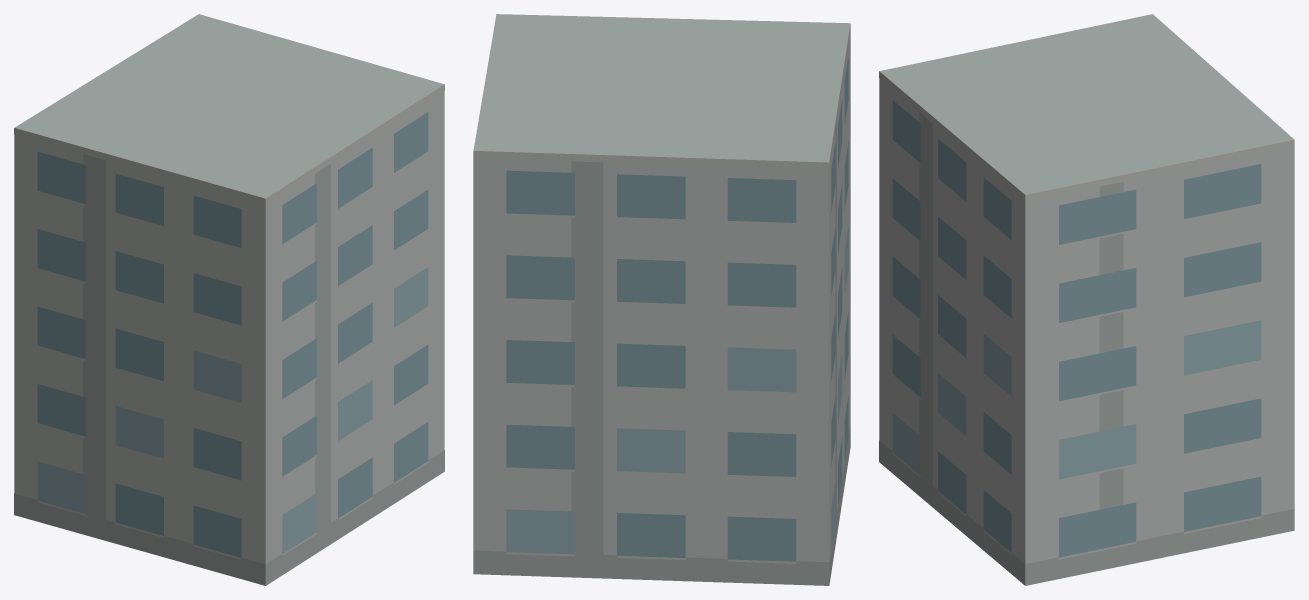
Rendered from survey-upis-32839975.glb.
3 views of the same model, side by side, from view 1: azimuth 30°, elevation 25°; view 2: azimuth 150°, elevation 25°; view 3: azimuth 270°, elevation 25° (orthographic). The views are drawn at different scales.
Parts seen in each view (by area): view 1: survey-upis-32839975.tmp; view 2: survey-upis-32839975.tmp; view 3: survey-upis-32839975.tmp.
Part boxes in pixels (bbox=[...]): survey-upis-32839975.tmp: bbox=[14, 14, 444, 585]; survey-upis-32839975.tmp: bbox=[473, 14, 850, 585]; survey-upis-32839975.tmp: bbox=[879, 14, 1294, 585].
Size of the model in its own units: 13.86 by 13.95 by 13.45.
